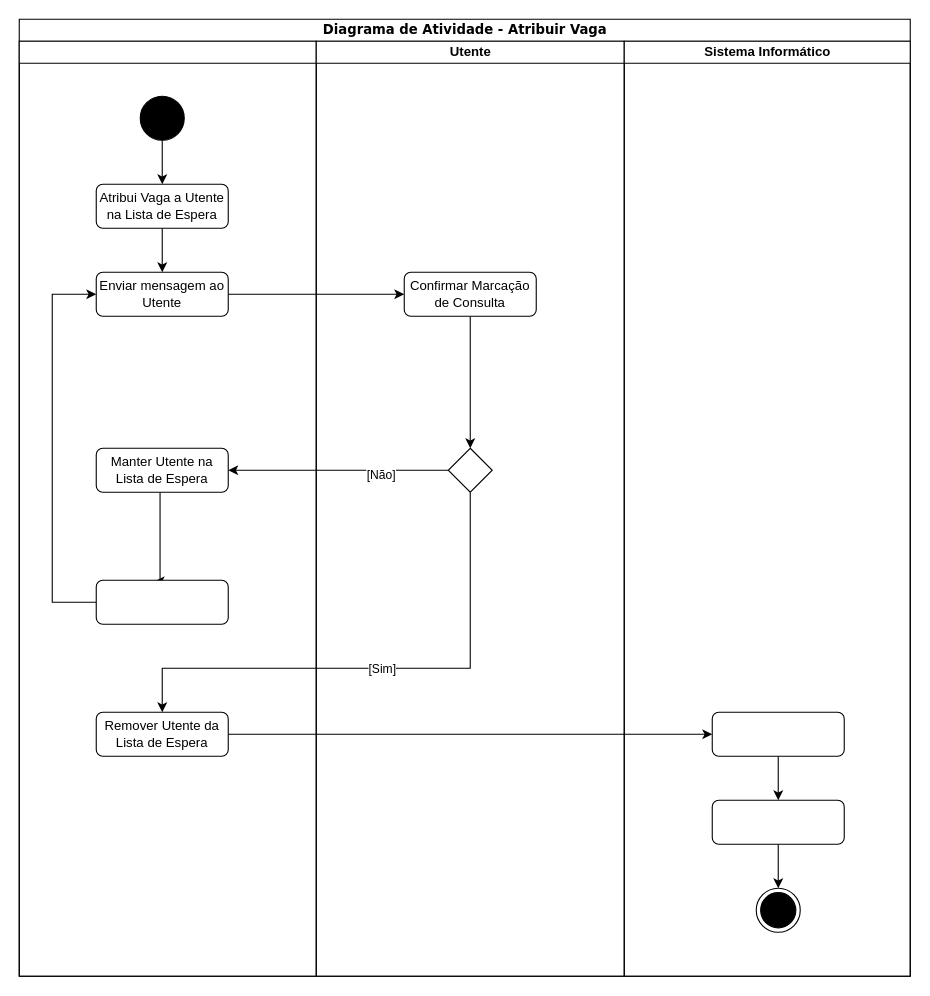
Image size: 930x996. Some labels were removed from this diagram. Each missing label, with the box of its shape:
Atribuir Vaga ao Próximo Utente na Lista de Espera: (95, 579, 228, 624)
Registar Data e Hora: (711, 711, 844, 756)
Remover Vaga do Calendário: (711, 799, 844, 844)
Sistema de Vagas: (18, 40, 316, 976)
